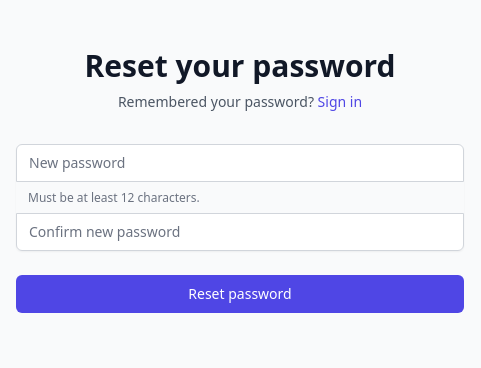
Test: PasswordReset › shows a validation message when token is missing
This screenshot has width=481, height=368.
Type "longpassword12" into the password field labelled "New password" at (240, 162), box top-left (16, 144), bottom-right (464, 182)
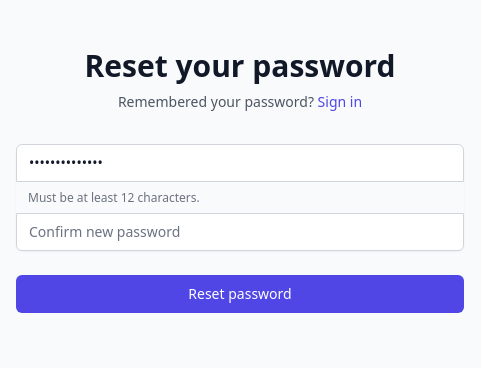
Type "longpassword12" into the password field labelled "Confirm new password" at (240, 232), box top-left (16, 212), bottom-right (464, 250)
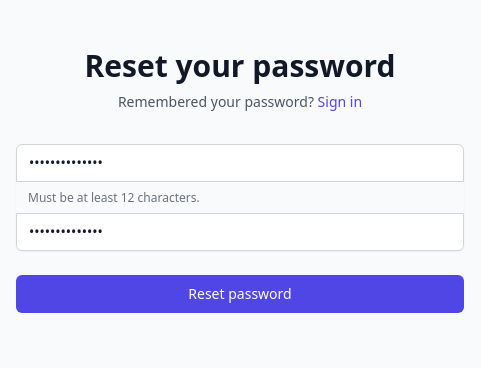
Click the button "Reset password" at (240, 294), box top-left (16, 274), bottom-right (464, 312)
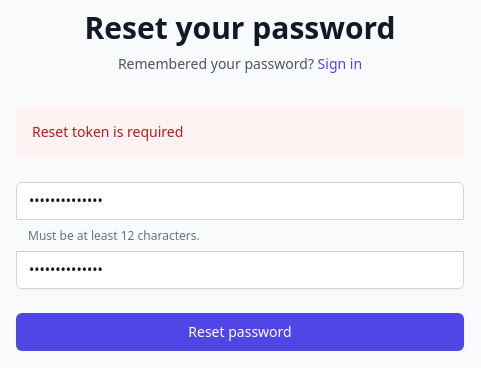
Expected: the text "Reset token is required" is shown, top-left (32, 122), bottom-right (183, 140)
